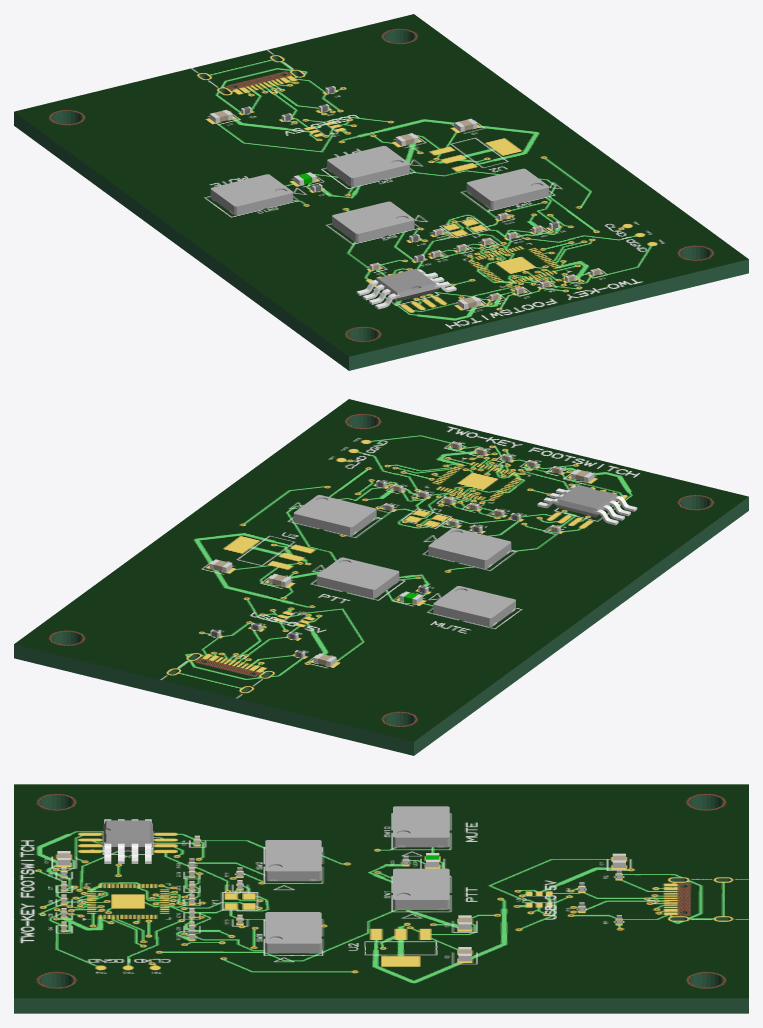
3 views of the same model, one above another, from view 1: azimuth 30°, elevation 25°; view 2: azimuth 150°, elevation 25°; view 3: azimuth 270°, elevation 25° (orthographic). The views are drawn at different scales.
Parts seen in each view (by area): view 1: Box0, SW10, SW3, SW2, SW1, U4; view 2: Box0, SW1, SW2, SW3, SW10, U4; view 3: Box0, SW2, SW3, SW1, SW10, U4.
Boxes of the visible parts, bbox=[...] form: Box0: bbox=[14, 14, 748, 370]; SW10: bbox=[210, 174, 293, 215]; SW3: bbox=[466, 168, 549, 209]; SW2: bbox=[332, 201, 414, 242]; SW1: bbox=[327, 146, 409, 186]; U4: bbox=[356, 269, 456, 309]; Box0: bbox=[14, 399, 748, 755]; SW1: bbox=[316, 557, 399, 598]; SW2: bbox=[428, 528, 511, 568]; SW3: bbox=[293, 495, 376, 535]; SW10: bbox=[433, 586, 515, 626]; U4: bbox=[537, 485, 637, 525]; Box0: bbox=[14, 784, 748, 1013]; SW2: bbox=[265, 840, 321, 881]; SW3: bbox=[265, 912, 321, 953]; SW1: bbox=[393, 868, 449, 909]; SW10: bbox=[393, 806, 449, 847]; U4: bbox=[103, 819, 152, 863].
Bounding box in the file's own units: 47.5 × 2.88 × 68.9.
Materials: 10 (2 with a texture image).
